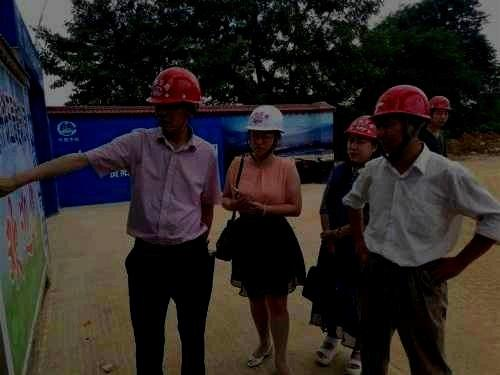helmet: (368, 85, 432, 154), (146, 67, 203, 135), (245, 105, 285, 156), (343, 115, 382, 163), (429, 96, 452, 127)
